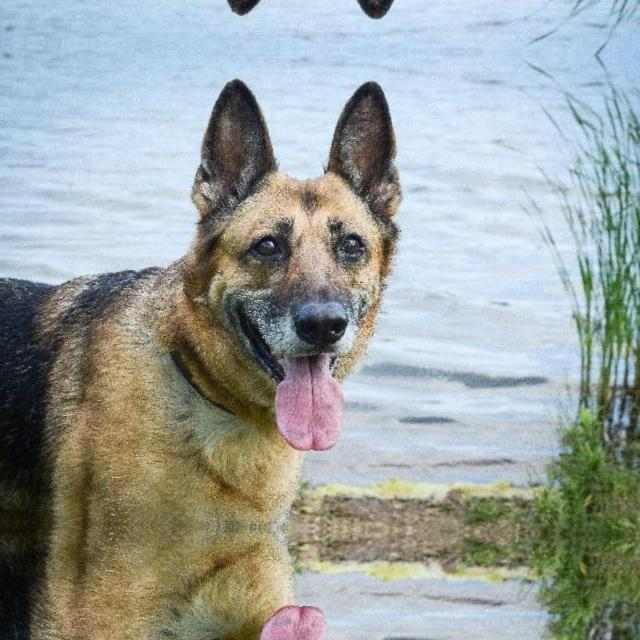dog: (0, 47, 432, 530), (0, 520, 397, 640), (0, 0, 441, 45)
